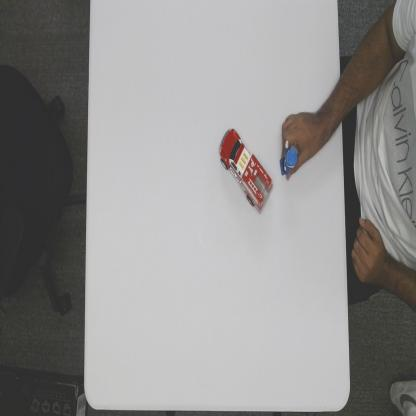Arm: (320, 81, 340, 149)
Firetruck: (218, 124, 274, 214)
Hand: (282, 112, 318, 162)
